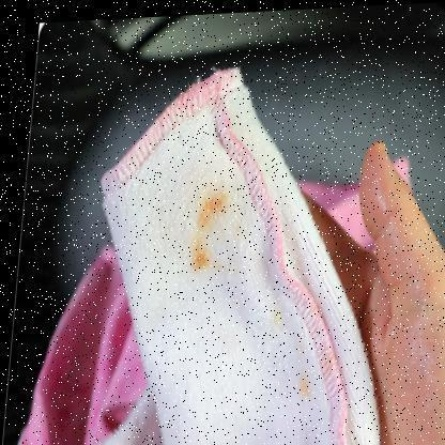kimchi: (189, 187, 232, 226), (182, 241, 214, 278), (306, 378, 321, 402)
